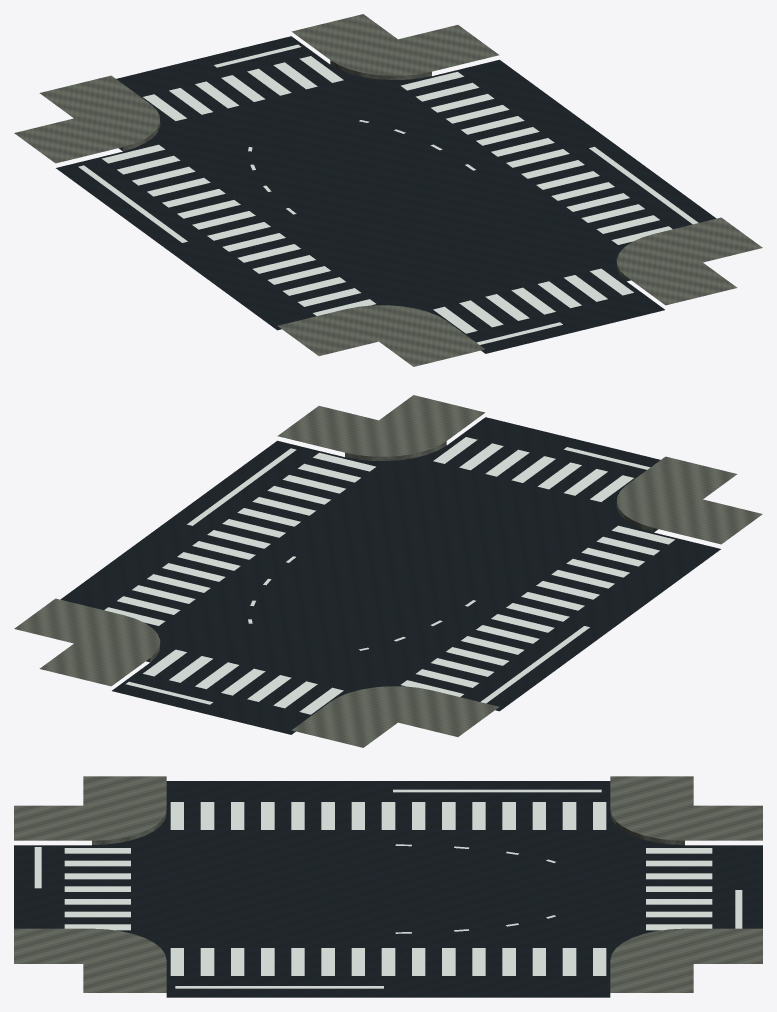
Rendered from junc_cross_4x2_LOD0.glb.
The picture shows the model from 3 angles, top to bottom: view 1: azimuth 30°, elevation 25°; view 2: azimuth 150°, elevation 25°; view 3: azimuth 270°, elevation 25°; orthographic projection.
Visible parts, largest first — view 1: junc_cross_4x2__surface, junc_cross_4x2__rounded_corner_curb, junc_cross_4x2__crosswalk_paint, junc_cross_4x2__stop_line_paint; view 2: junc_cross_4x2__surface, junc_cross_4x2__rounded_corner_curb, junc_cross_4x2__crosswalk_paint, junc_cross_4x2__stop_line_paint; view 3: junc_cross_4x2__surface, junc_cross_4x2__rounded_corner_curb, junc_cross_4x2__crosswalk_paint, junc_cross_4x2__stop_line_paint.
Boxes of the visible parts, box(x1,y1,x2,y2) form: junc_cross_4x2__surface: box(56, 36, 716, 353); junc_cross_4x2__rounded_corner_curb: box(14, 14, 762, 366); junc_cross_4x2__crosswalk_paint: box(102, 56, 672, 333); junc_cross_4x2__stop_line_paint: box(78, 44, 698, 344); junc_cross_4x2__surface: box(60, 417, 720, 734); junc_cross_4x2__rounded_corner_curb: box(14, 395, 762, 747); junc_cross_4x2__crosswalk_paint: box(104, 437, 674, 714); junc_cross_4x2__stop_line_paint: box(125, 447, 650, 704); junc_cross_4x2__surface: box(14, 781, 762, 997); junc_cross_4x2__rounded_corner_curb: box(14, 776, 762, 992); junc_cross_4x2__crosswalk_paint: box(64, 802, 712, 975); junc_cross_4x2__stop_line_paint: box(34, 789, 742, 988).
Bounding box in the file's own units: 14.8 × 0.145 × 21.6.
4 materials, 3 textured.
